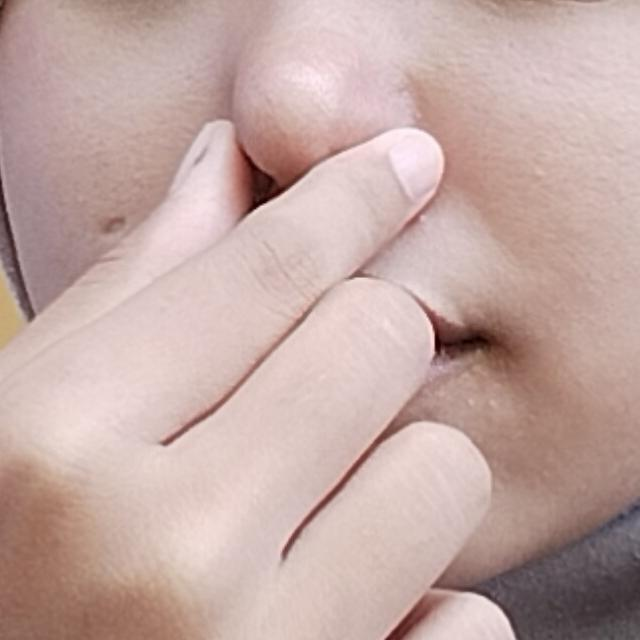bau: (0, 8, 616, 640)
